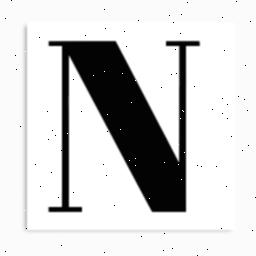n: (43, 32, 203, 220)
